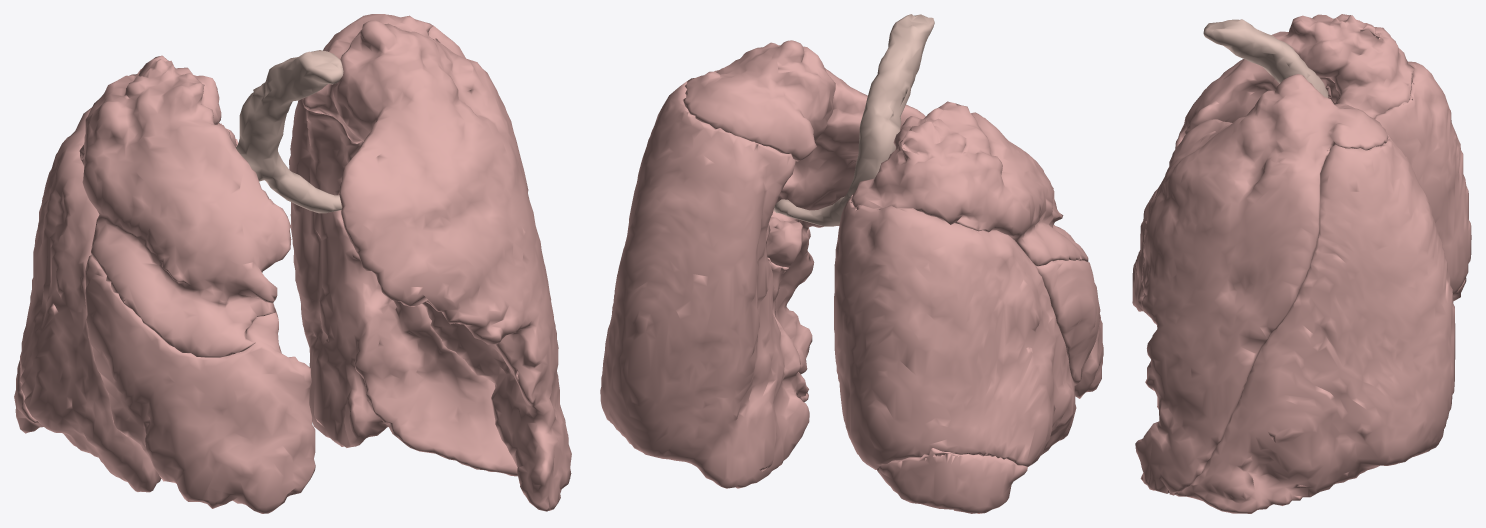
The model's file is tsd_s0327_older_adult_male.respiratory.LOD2.glb.
3 views of the same model, side by side, from view 1: azimuth 30°, elevation 25°; view 2: azimuth 150°, elevation 25°; view 3: azimuth 270°, elevation 25° (orthographic). The views are drawn at different scales.
Visible parts, largest first — view 1: TSD_S0327.OLDER_ADULT.MALE.RESPIRATORY.SUPERIOR_LOBE_OF_LEFT, TSD_S0327.OLDER_ADULT.MALE.RESPIRATORY.SUPERIOR_LOBE_OF_RIGH, TSD_S0327.OLDER_ADULT.MALE.RESPIRATORY.INFERIOR_LOBE_OF_LEFT, TSD_S0327.OLDER_ADULT.MALE.RESPIRATORY.MIDDLE_LOBE_OF_RIGHT_, TSD_S0327.OLDER_ADULT.MALE.RESPIRATORY.INFERIOR_LOBE_OF_RIGH, TSD_S0327.OLDER_ADULT.MALE.RESPIRATORY.TRACHEA; view 2: TSD_S0327.OLDER_ADULT.MALE.RESPIRATORY.INFERIOR_LOBE_OF_LEFT, TSD_S0327.OLDER_ADULT.MALE.RESPIRATORY.INFERIOR_LOBE_OF_RIGH, TSD_S0327.OLDER_ADULT.MALE.RESPIRATORY.SUPERIOR_LOBE_OF_LEFT, TSD_S0327.OLDER_ADULT.MALE.RESPIRATORY.SUPERIOR_LOBE_OF_RIGH, TSD_S0327.OLDER_ADULT.MALE.RESPIRATORY.MIDDLE_LOBE_OF_RIGHT_, TSD_S0327.OLDER_ADULT.MALE.RESPIRATORY.TRACHEA; view 3: TSD_S0327.OLDER_ADULT.MALE.RESPIRATORY.INFERIOR_LOBE_OF_LEFT, TSD_S0327.OLDER_ADULT.MALE.RESPIRATORY.SUPERIOR_LOBE_OF_LEFT, TSD_S0327.OLDER_ADULT.MALE.RESPIRATORY.SUPERIOR_LOBE_OF_RIGH, TSD_S0327.OLDER_ADULT.MALE.RESPIRATORY.INFERIOR_LOBE_OF_RIGH, TSD_S0327.OLDER_ADULT.MALE.RESPIRATORY.TRACHEA, TSD_S0327.OLDER_ADULT.MALE.RESPIRATORY.MIDDLE_LOBE_OF_RIGHT_.
Part boxes in pixels (<box>): TSD_S0327.OLDER_ADULT.MALE.RESPIRATORY.SUPERIOR_LOBE_OF_LEFT: <box>302,14,571,511</box>; TSD_S0327.OLDER_ADULT.MALE.RESPIRATORY.SUPERIOR_LOBE_OF_RIGH: <box>79,55,291,357</box>; TSD_S0327.OLDER_ADULT.MALE.RESPIRATORY.INFERIOR_LOBE_OF_LEFT: <box>289,25,570,492</box>; TSD_S0327.OLDER_ADULT.MALE.RESPIRATORY.MIDDLE_LOBE_OF_RIGHT_: <box>14,255,315,513</box>; TSD_S0327.OLDER_ADULT.MALE.RESPIRATORY.INFERIOR_LOBE_OF_RIGH: <box>20,107,281,492</box>; TSD_S0327.OLDER_ADULT.MALE.RESPIRATORY.TRACHEA: <box>236,50,343,213</box>; TSD_S0327.OLDER_ADULT.MALE.RESPIRATORY.INFERIOR_LOBE_OF_LEFT: <box>600,80,809,488</box>; TSD_S0327.OLDER_ADULT.MALE.RESPIRATORY.INFERIOR_LOBE_OF_RIGH: <box>834,195,1076,469</box>; TSD_S0327.OLDER_ADULT.MALE.RESPIRATORY.SUPERIOR_LOBE_OF_LEFT: <box>682,40,925,374</box>; TSD_S0327.OLDER_ADULT.MALE.RESPIRATORY.SUPERIOR_LOBE_OF_RIGH: <box>851,101,1088,266</box>; TSD_S0327.OLDER_ADULT.MALE.RESPIRATORY.MIDDLE_LOBE_OF_RIGHT_: <box>877,260,1103,513</box>; TSD_S0327.OLDER_ADULT.MALE.RESPIRATORY.TRACHEA: <box>773,14,934,226</box>; TSD_S0327.OLDER_ADULT.MALE.RESPIRATORY.INFERIOR_LOBE_OF_LEFT: <box>1169,134,1455,513</box>; TSD_S0327.OLDER_ADULT.MALE.RESPIRATORY.SUPERIOR_LOBE_OF_LEFT: <box>1135,74,1388,493</box>; TSD_S0327.OLDER_ADULT.MALE.RESPIRATORY.SUPERIOR_LOBE_OF_RIGH: <box>1175,14,1414,148</box>; TSD_S0327.OLDER_ADULT.MALE.RESPIRATORY.INFERIOR_LOBE_OF_RIGH: <box>1375,61,1471,294</box>; TSD_S0327.OLDER_ADULT.MALE.RESPIRATORY.TRACHEA: <box>1203,19,1328,97</box>; TSD_S0327.OLDER_ADULT.MALE.RESPIRATORY.MIDDLE_LOBE_OF_RIGHT_: <box>1132,186,1466,311</box>.
Size of the model in its own units: 0.2451 by 0.2371 by 0.1856.
